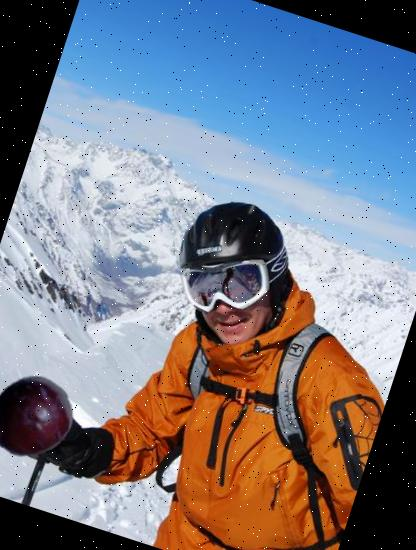Plum: (0, 363, 84, 471)
